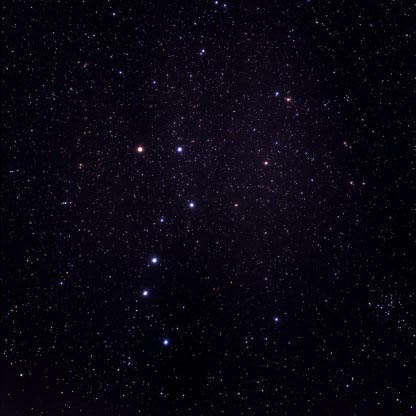Ursa Major: (155, 328, 174, 357), (142, 247, 163, 270), (129, 139, 149, 160), (153, 209, 169, 235), (135, 284, 156, 303), (180, 195, 199, 216), (172, 137, 192, 155)
